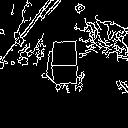cube: (45, 35, 81, 92)
